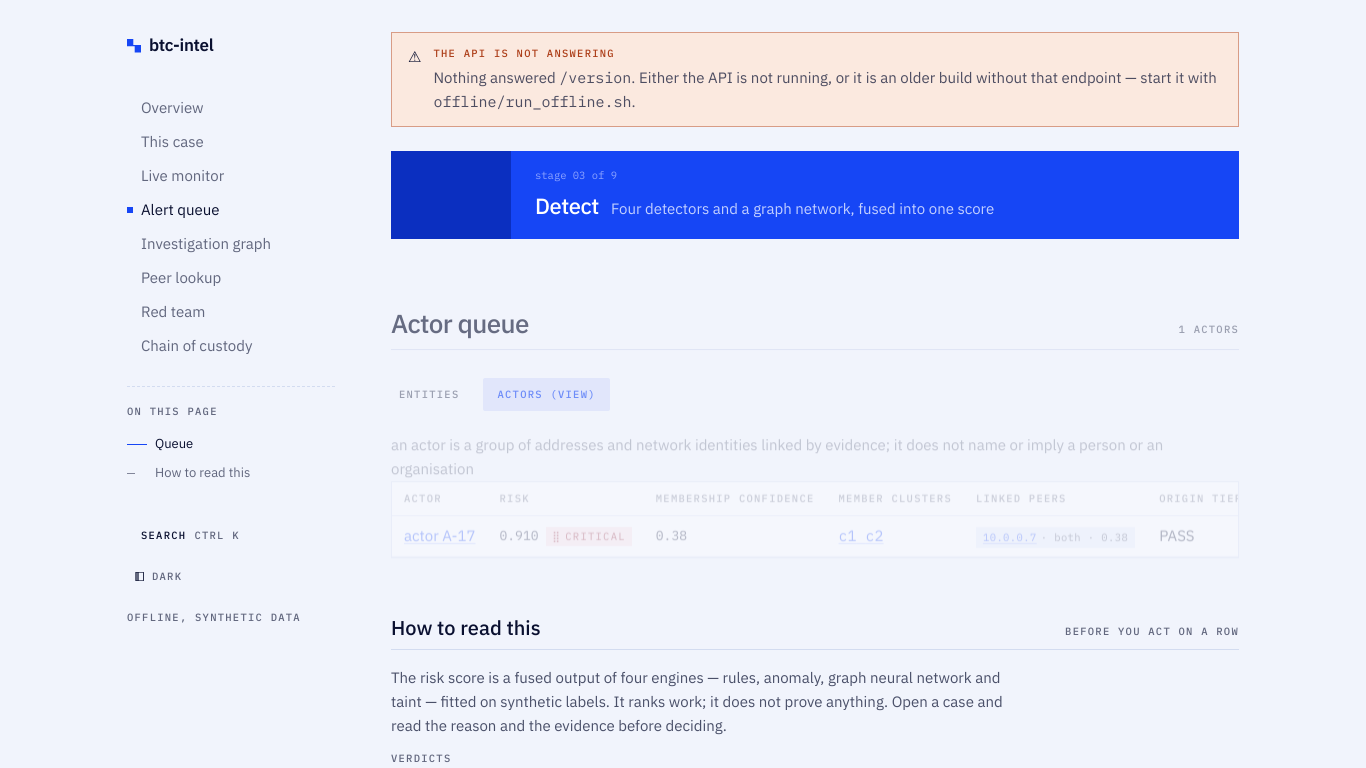
Test: actor queue › toggles back to the entity queue
This screenshot has width=1366, height=768.
Check: the link "actor A-17" is shown, box [404,524,476,543]
Click the button "entities" at point(429, 392), box [391,376,468,409]
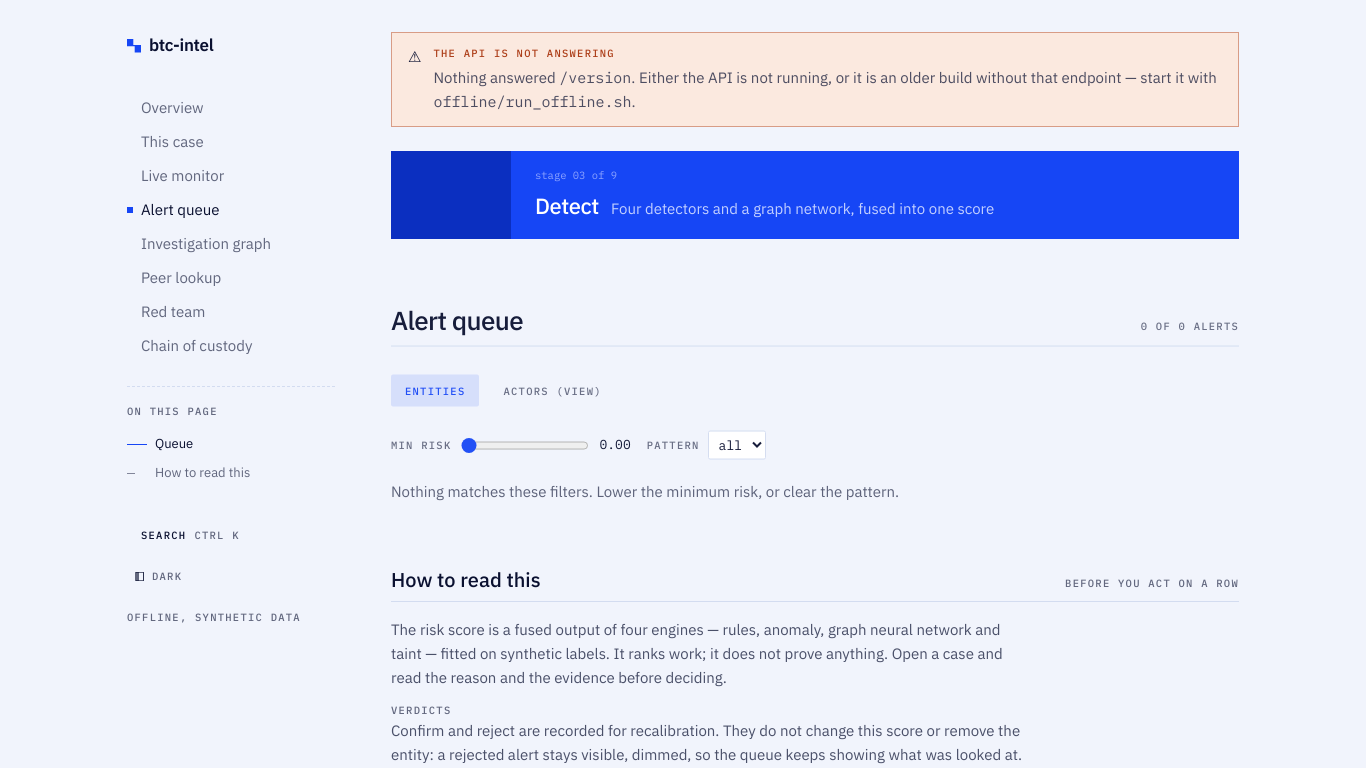
Check: the heading "Alert queue" is shown, box [391,303,523,337]
